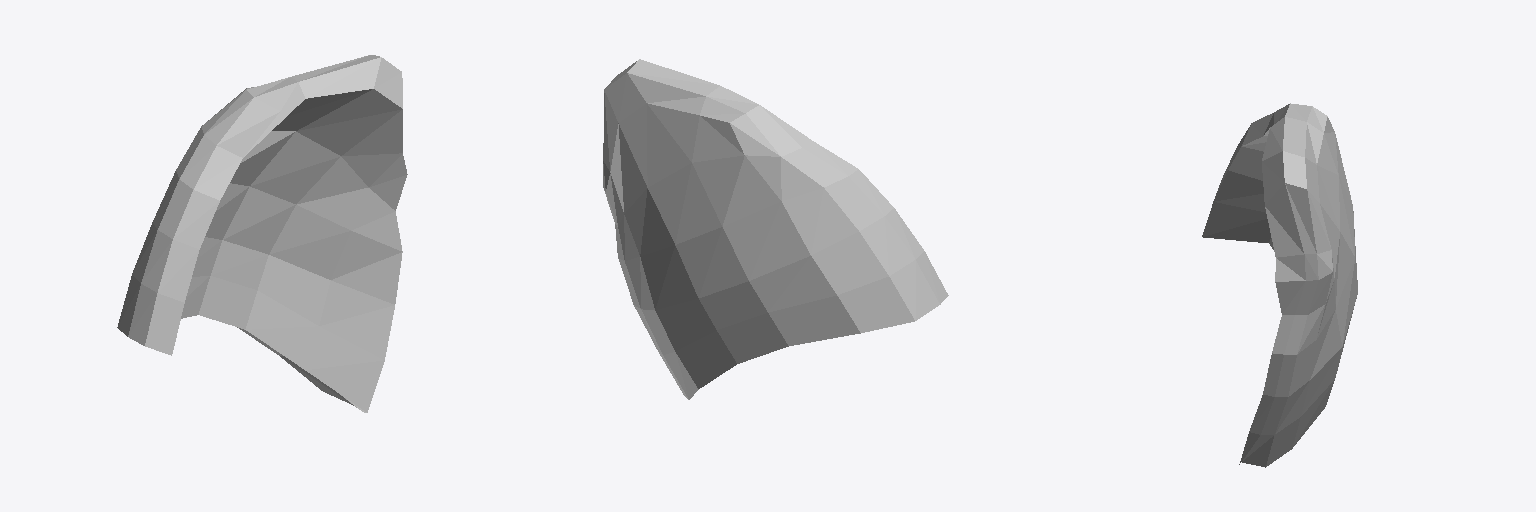
File: earL.obj
3 renders of one model, left to right at view 1: azimuth 30°, elevation 25°; view 2: azimuth 150°, elevation 25°; view 3: azimuth 270°, elevation 25°, orthographic.
Parts seen in each view (by area): view 1: earL; view 2: earL; view 3: earL.
Part boxes in pixels (x1,y1,x2,y2): earL: (117,55,407,412); earL: (603,59,948,399); earL: (1202,103,1357,467).
Size of the model in its own units: 4.16 by 4.43 by 1.88.